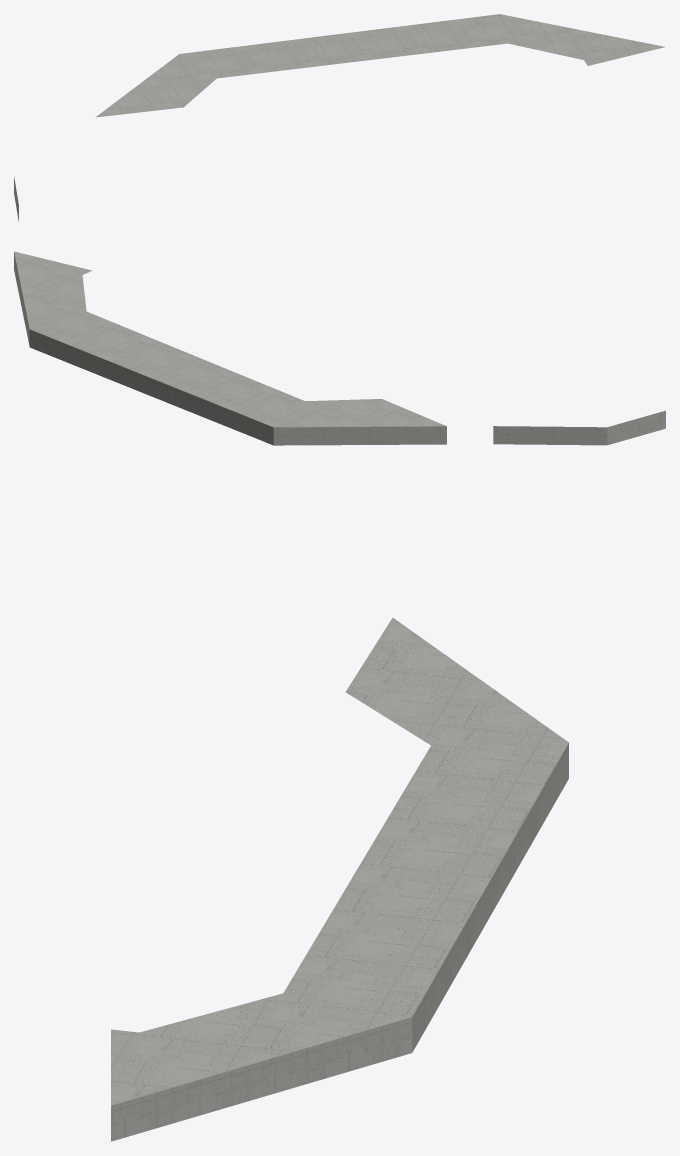
File: kd_stage_1364a3_4_13_bounded.glb
3 renders of one model, top to bottom at view 1: azimuth 30°, elevation 25°; view 2: azimuth 150°, elevation 25°; view 3: azimuth 270°, elevation 25°, orthographic. The views are drawn at different scales.
Visible parts, largest first — view 1: kd_stage_1364a3_4_13_bounded; view 2: kd_stage_1364a3_4_13_bounded; view 3: kd_stage_1364a3_4_13_bounded.
Part boxes in pixels (x1=…): kd_stage_1364a3_4_13_bounded: x1=14, y1=14, x2=664, y2=221; kd_stage_1364a3_4_13_bounded: x1=14, y1=251, x2=665, y2=445; kd_stage_1364a3_4_13_bounded: x1=111, y1=618, x2=568, y2=1141.
Size of the model in its own units: 88.62 by 2.36 by 27.16.
1 material, 1 textured.
